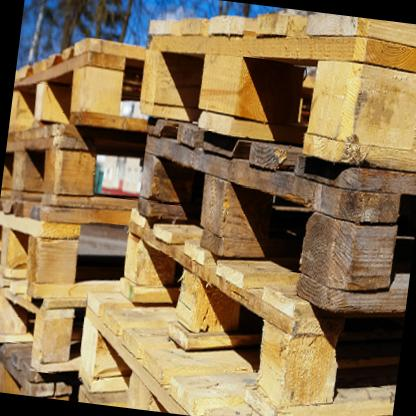BoxFace: (138, 116, 416, 315), (140, 14, 416, 172)
